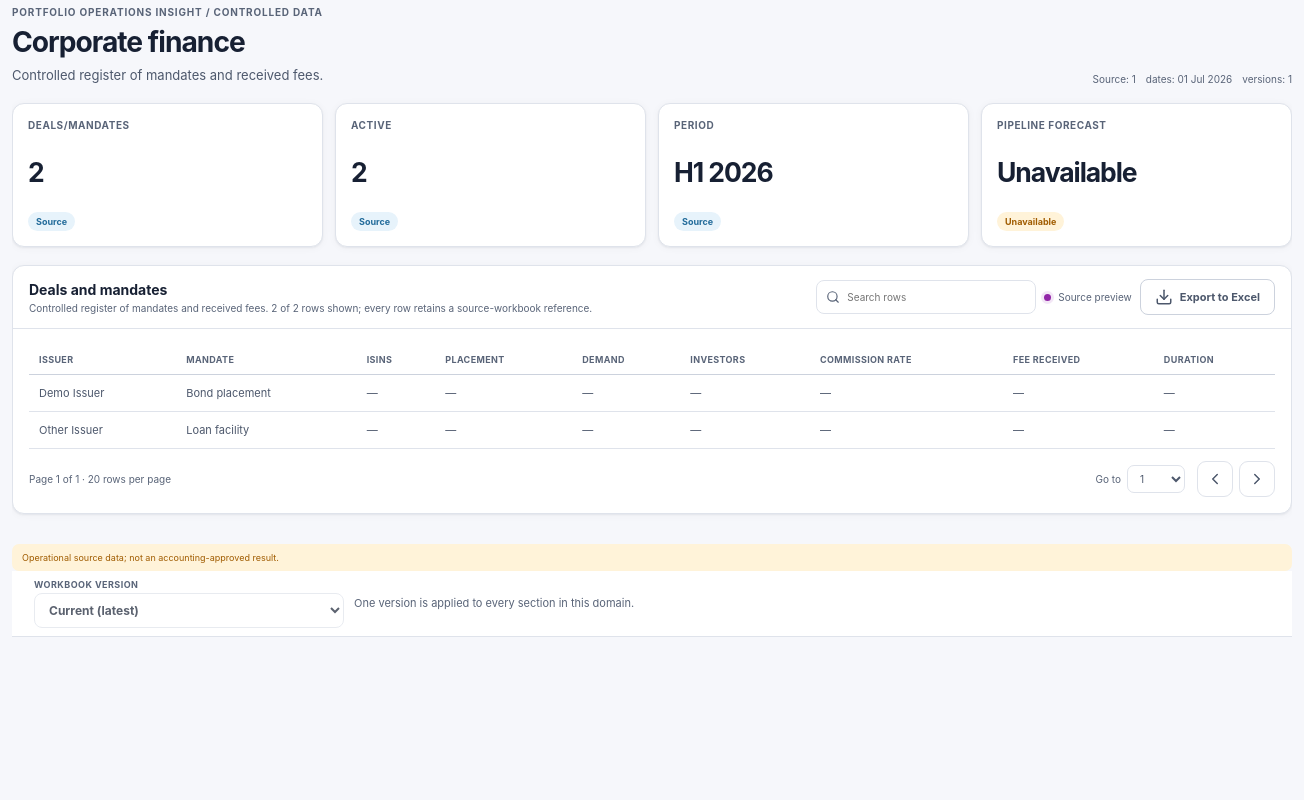
Test: multi-source domain pages › narrows the corporate-finance KPI cards to the active search term, not just the table below them
Check: the text "2" below "Deals/mandates" is shown, box x1=28 y1=156 x2=44 y2=188
Type "Demo Issuer" into the field with placeholder "Search rows" at (937, 297), box x1=847 y1=291 x2=1026 y2=303
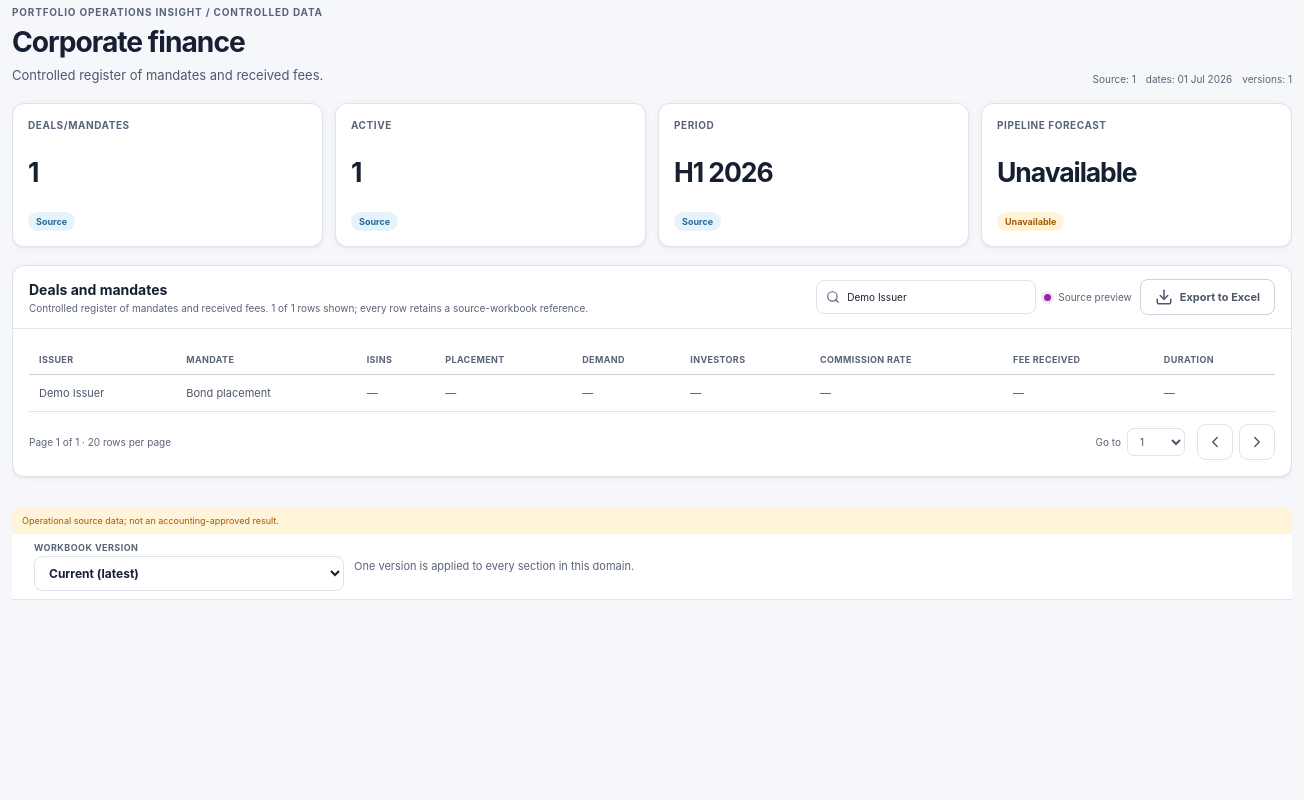
Check: the text "1" below "Deals/mandates" is shown, box x1=28 y1=156 x2=38 y2=188
